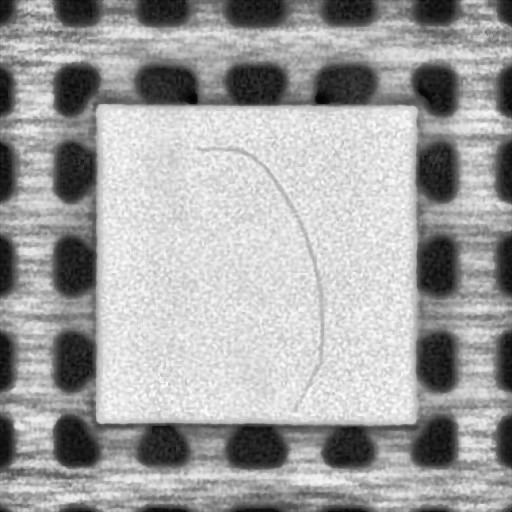DIE_CRACK: (192, 144, 324, 410)
